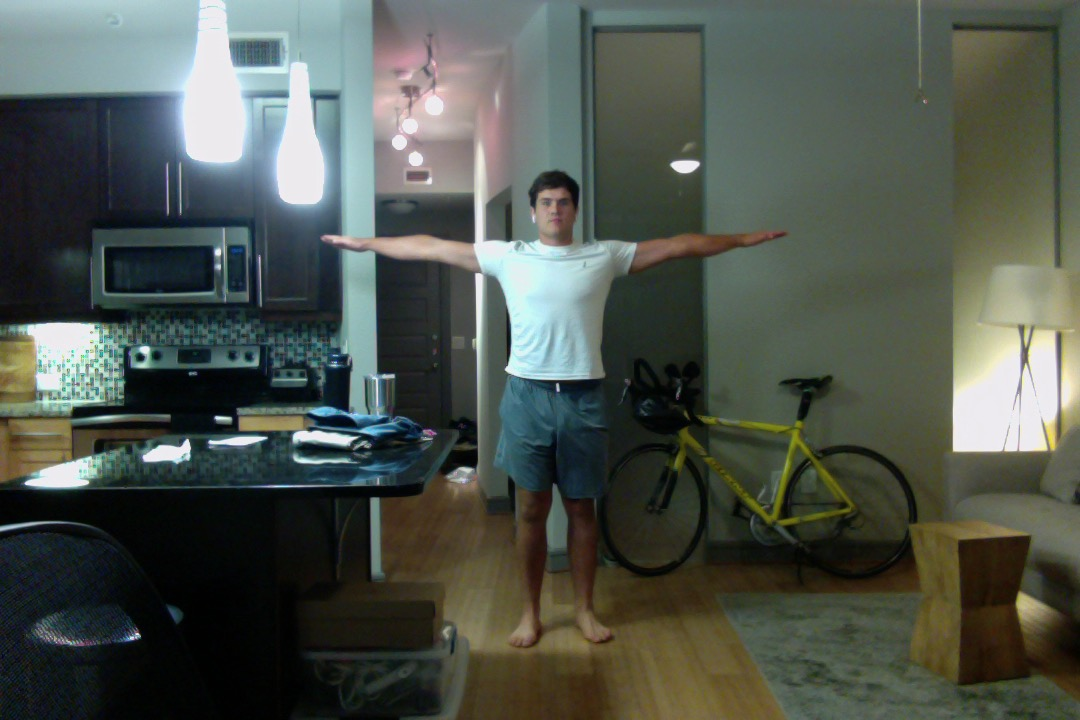T: (313, 156, 794, 658)
